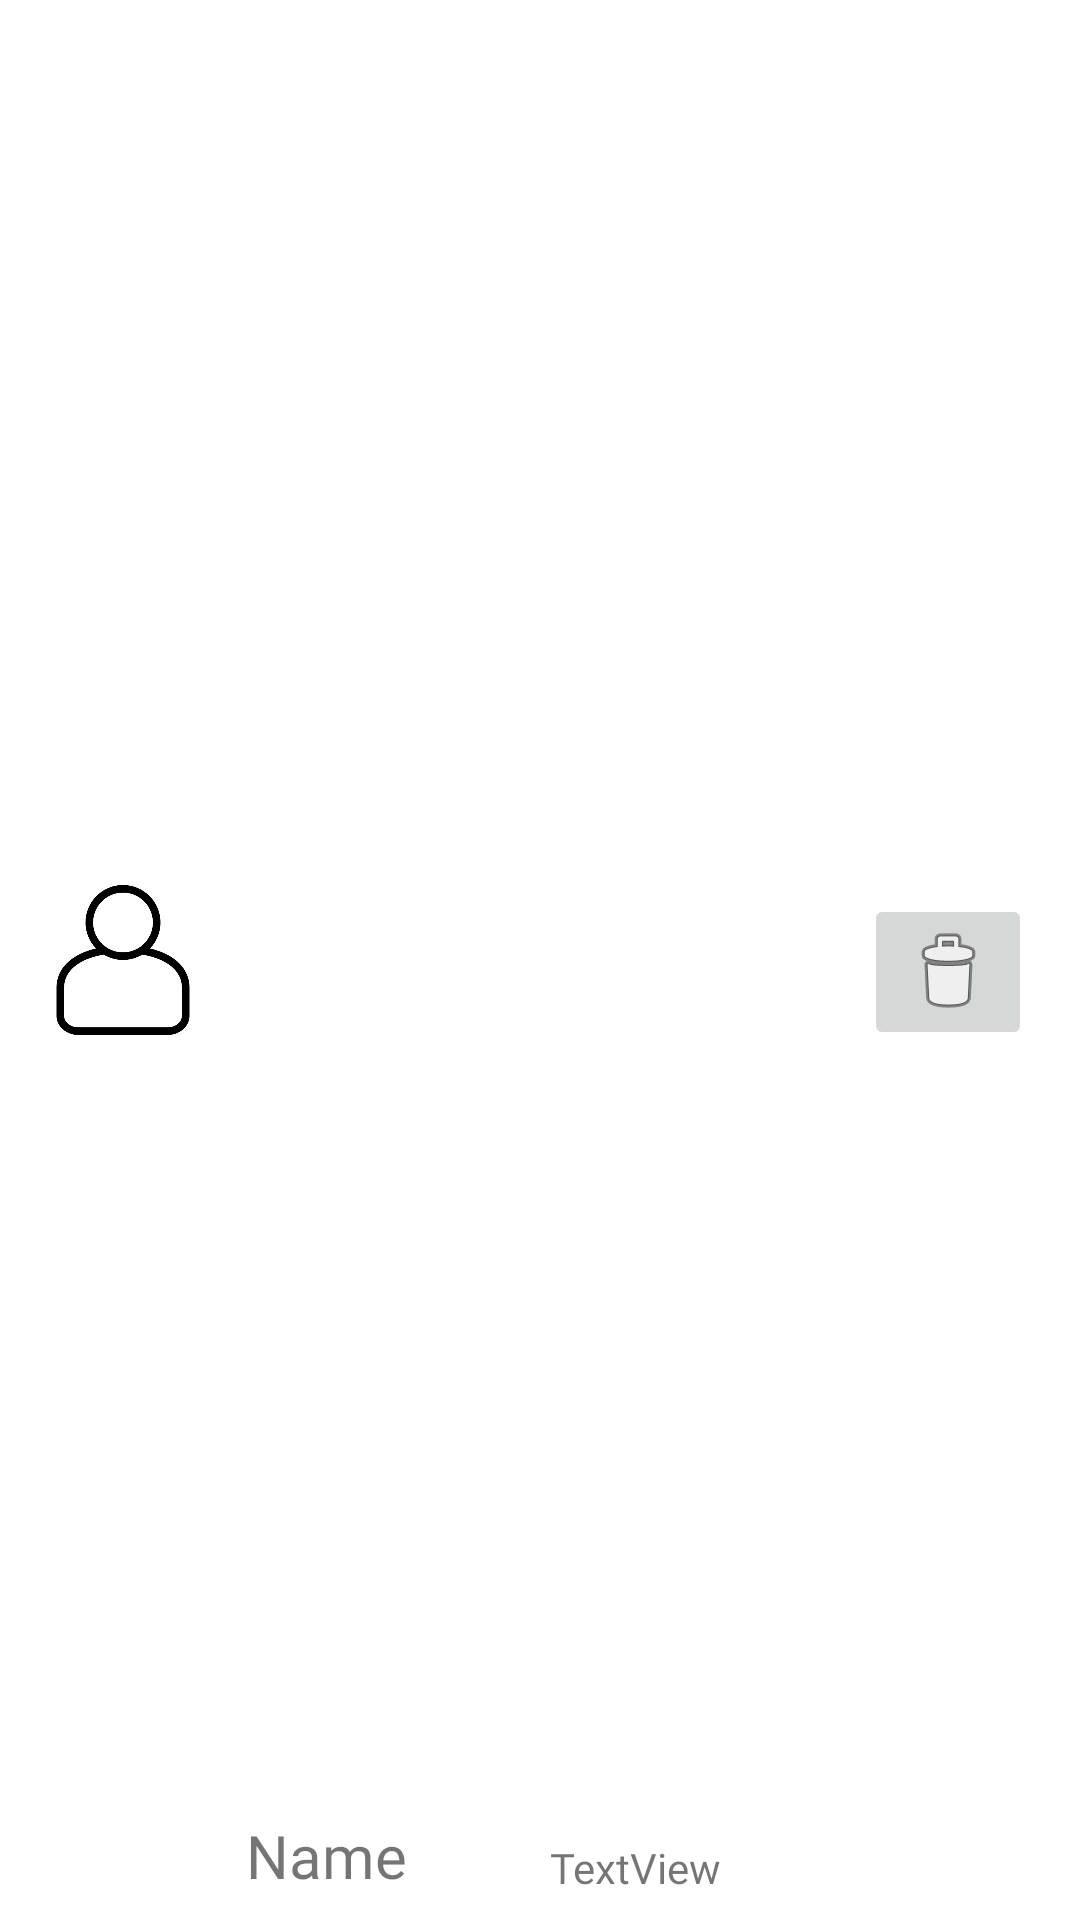

Screen size 1080×1920. Icon name, then its center in pixels as (x=x, y=y):
delete: (x=948, y=972)
user: (x=123, y=960)
